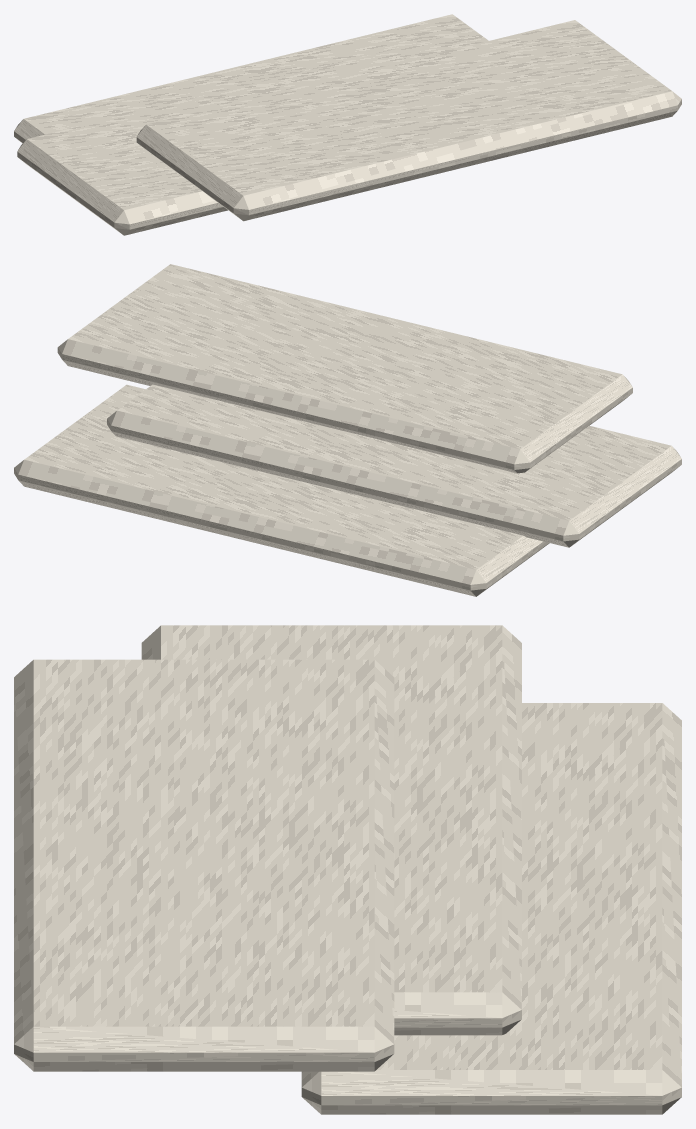
Rendered from bellywrap.glb.
The picture shows the model from 3 angles, top to bottom: view 1: azimuth 30°, elevation 25°; view 2: azimuth 150°, elevation 25°; view 3: azimuth 270°, elevation 25°; orthographic projection. The views are drawn at different scales.
Parts seen in each view (by area): view 1: block_folded waist textile (×3); view 2: block_folded waist textile (×3); view 3: block_folded waist textile (×3).
Boxes of the visible parts, x1,y1,x2,y2 form: block_folded waist textile (×3): (14, 14, 681, 235); block_folded waist textile (×3): (14, 264, 681, 596); block_folded waist textile (×3): (14, 625, 681, 1114).
Size of the model in its own units: 0.2524 by 0.0318 by 0.1568.
1 material, 1 textured.
